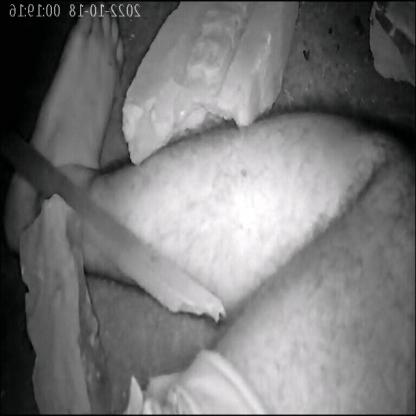leg: (0, 5, 237, 320)
